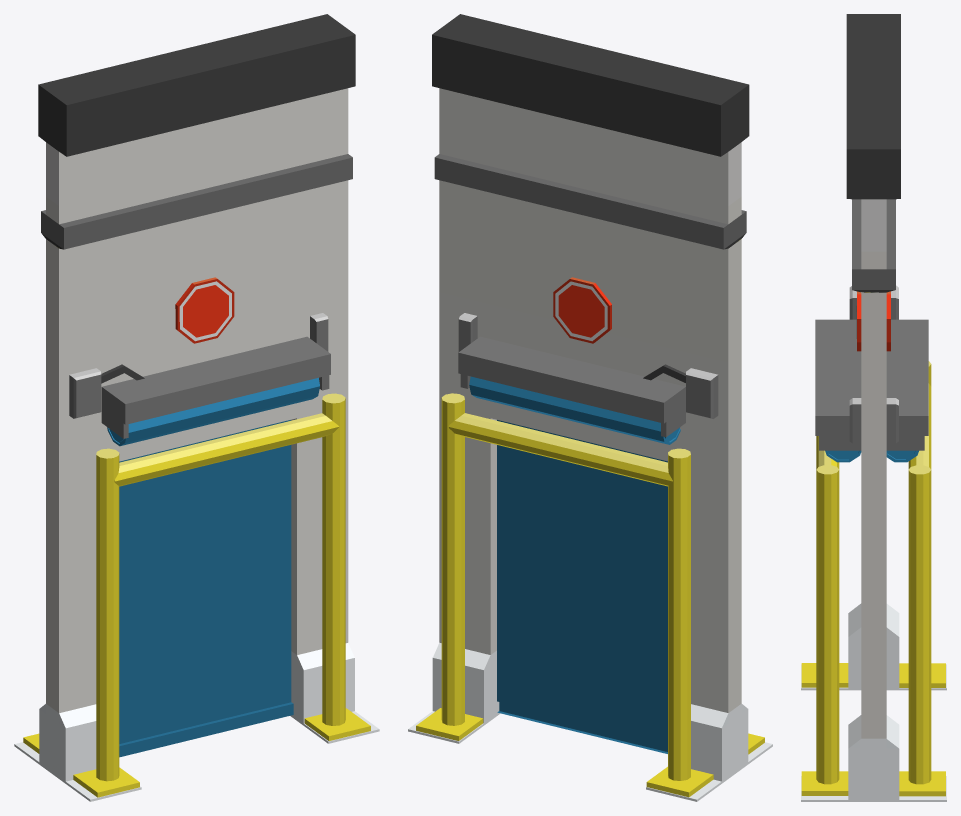
File: Rollup-Door.fbx
3 renders of one model, left to right at view 1: azimuth 30°, elevation 25°; view 2: azimuth 150°, elevation 25°; view 3: azimuth 270°, elevation 25°, orthographic. The views are drawn at different scales.
Visible parts, largest first — view 1: RytechDoorFrame, DoorPanel; view 2: RytechDoorFrame, DoorPanel; view 3: RytechDoorFrame.
Boxes of the visible parts, x1,y1,x2,y2 form: RytechDoorFrame: (14, 14, 379, 801); DoorPanel: (119, 420, 293, 757); RytechDoorFrame: (408, 14, 772, 801); DoorPanel: (497, 420, 667, 753); RytechDoorFrame: (801, 14, 946, 801).
Size of the model in its own units: 4.01 by 1.83 by 9.02.
